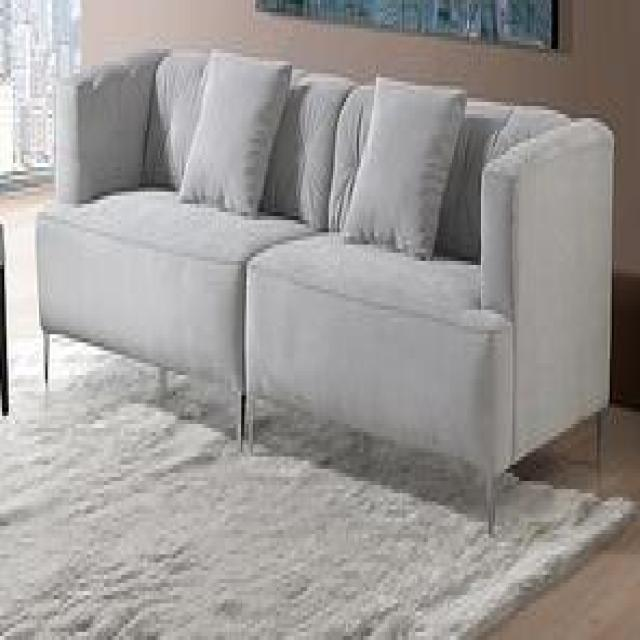sofa: (31, 46, 617, 556)
